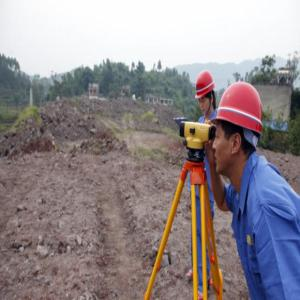red: (215, 82, 264, 181), (196, 69, 217, 117)
